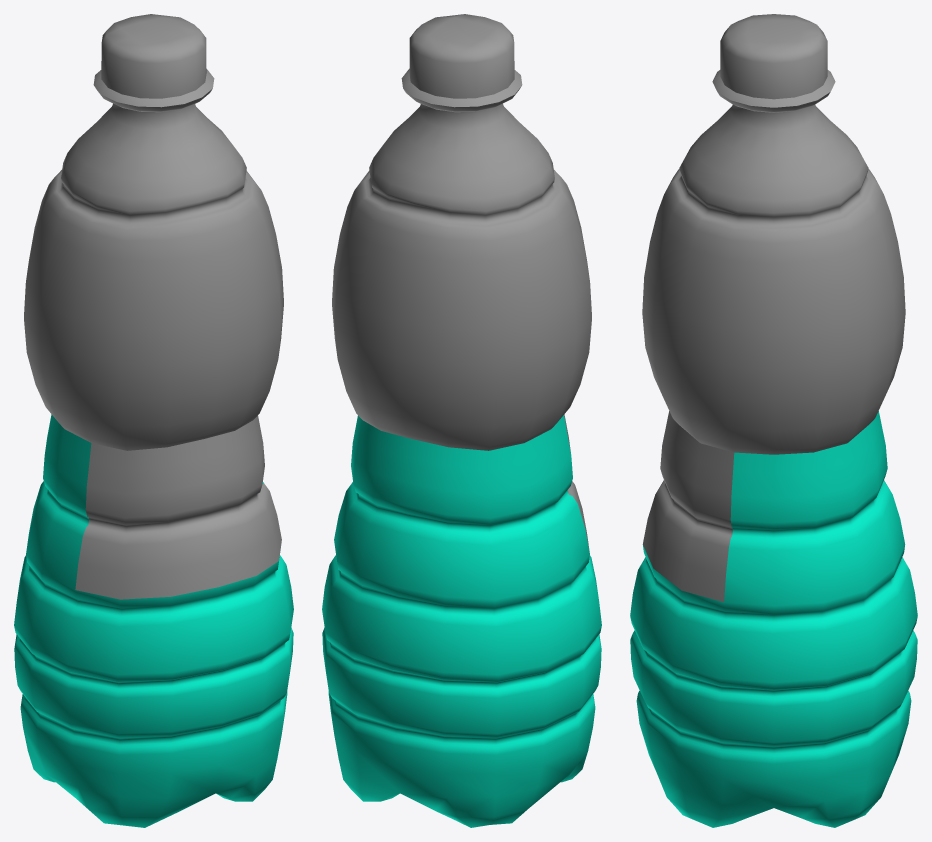
File: Bottle 05.FBX
3 renders of one model, left to right at view 1: azimuth 30°, elevation 25°; view 2: azimuth 150°, elevation 25°; view 3: azimuth 270°, elevation 25°, orthographic.
Visible parts, largest first — view 1: Up, Down; view 2: Down, Up; view 3: Up, Down.
Boxes of the visible parts, x1,y1,x2,y2 form: Up: [24, 14, 283, 599]; Down: [14, 414, 293, 827]; Down: [322, 415, 601, 827]; Up: [332, 14, 591, 549]; Up: [642, 14, 905, 602]; Down: [630, 411, 917, 827].
Bounding box in the file's own units: 0.1535 × 0.4502 × 0.154.
